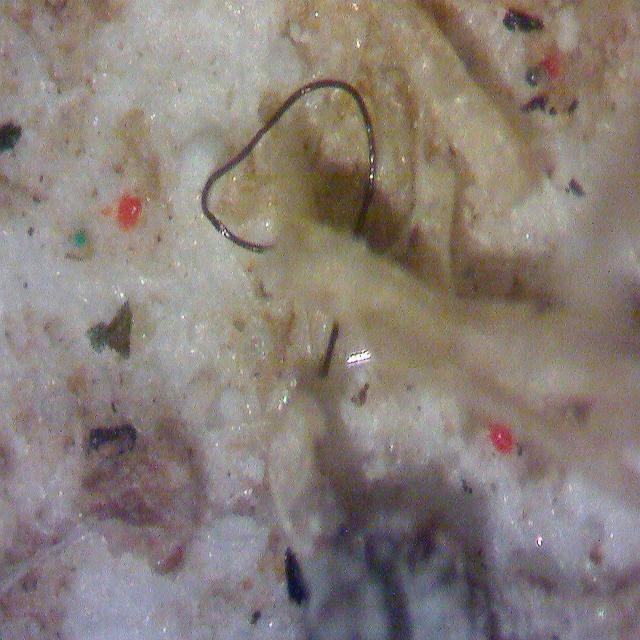microplastic: (201, 81, 374, 379)
